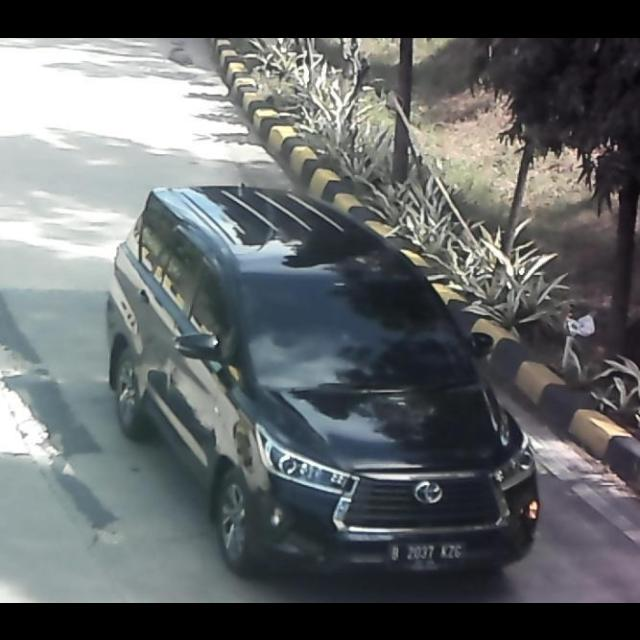plate: (382, 537, 468, 569)
